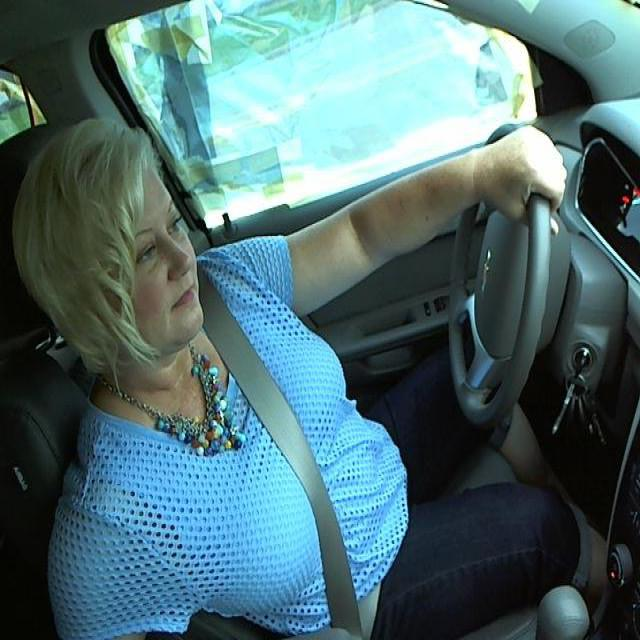seatbelt: (200, 342, 388, 626)
